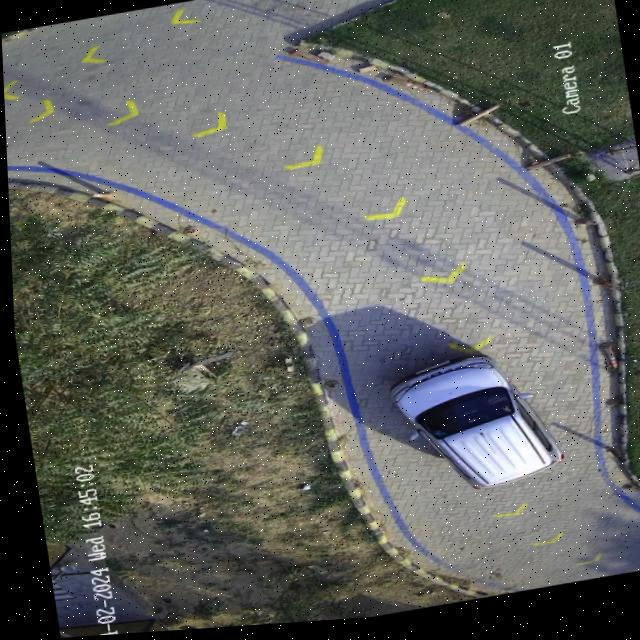car: (385, 360, 559, 494)
